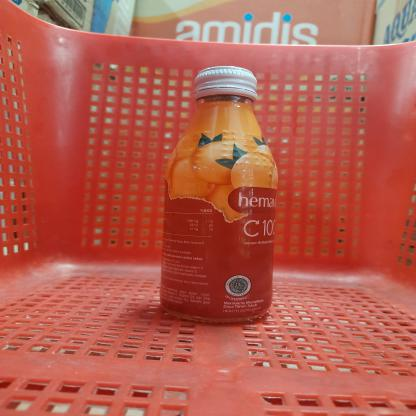bottle: (158, 61, 287, 338)
